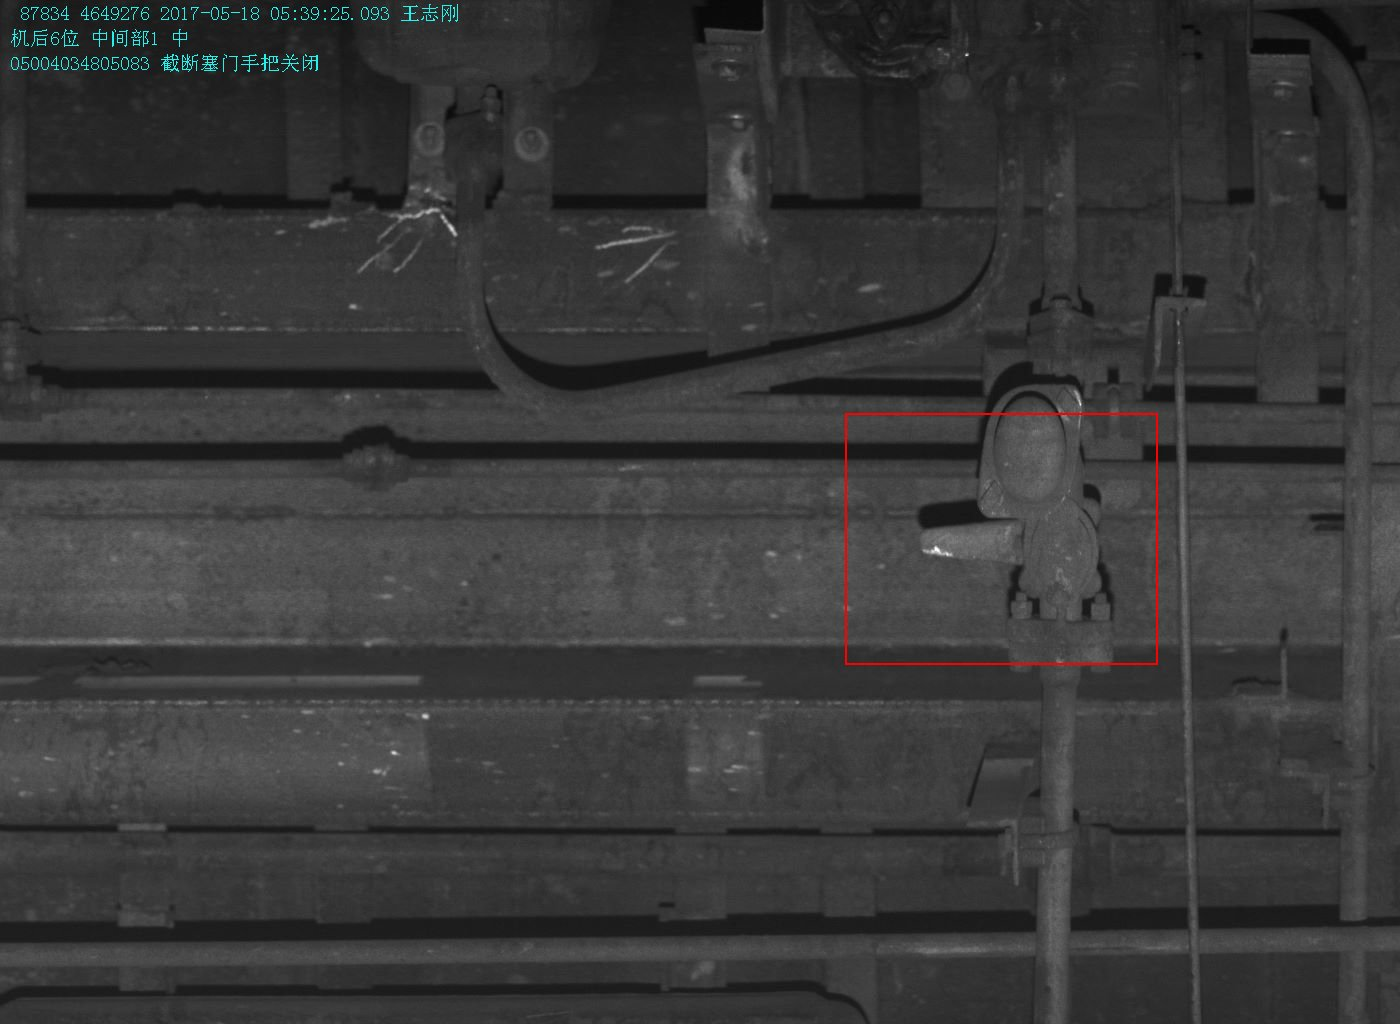truncated plug door handle: (915, 496, 1103, 601)
